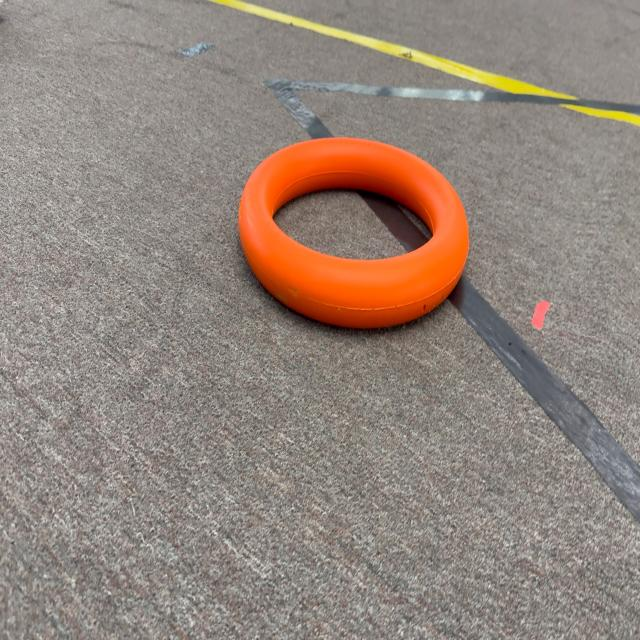note: (232, 116, 480, 339)
